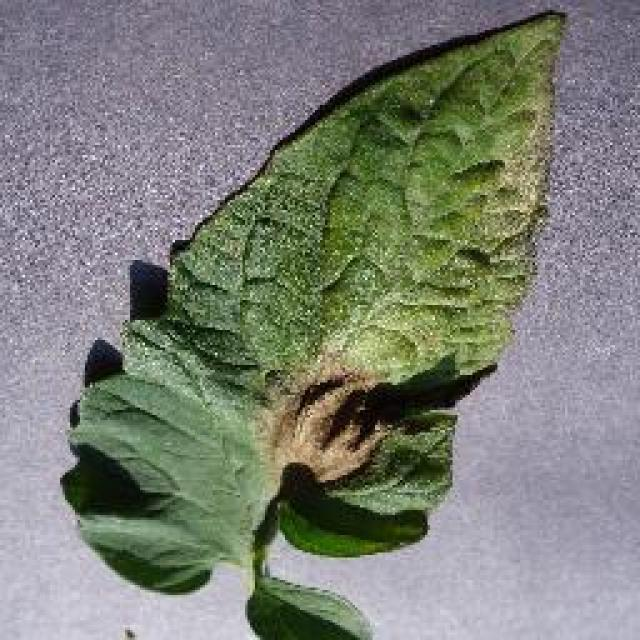Tomato late blight leaf: (60, 6, 567, 598)
